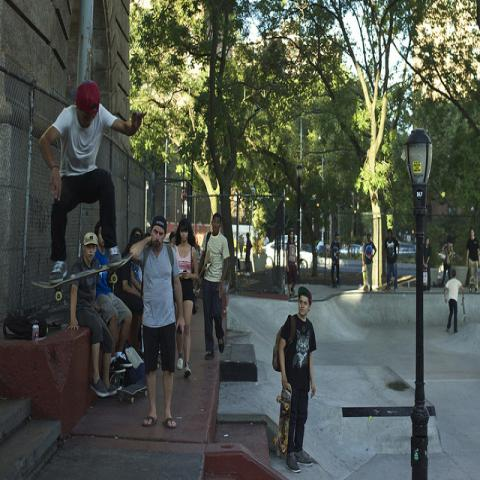car: (265, 239, 312, 268)
